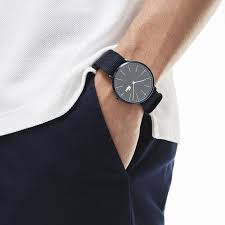clock: (114, 63, 153, 103)
